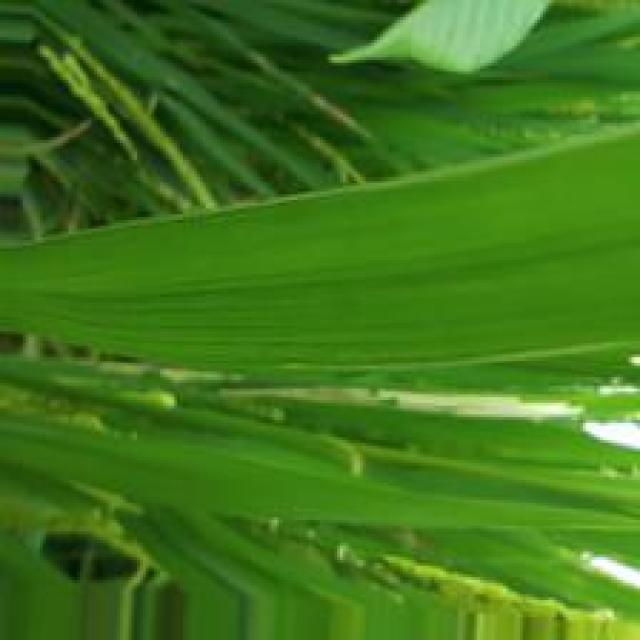HealthyLeaf: (57, 138, 630, 362)
